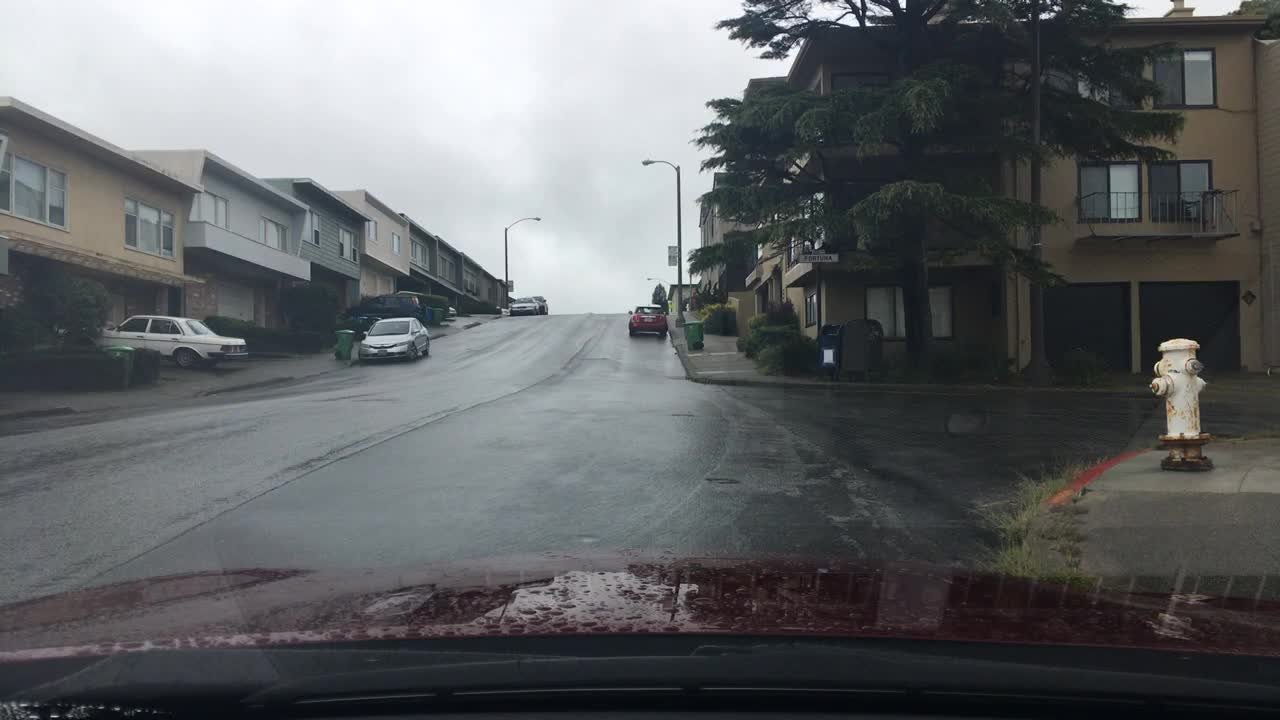car: (87, 313, 251, 367), (354, 314, 432, 366), (346, 291, 422, 316), (398, 289, 458, 316), (625, 304, 666, 340), (508, 296, 538, 317), (534, 294, 549, 314)
traffic sign: (795, 252, 840, 263)
